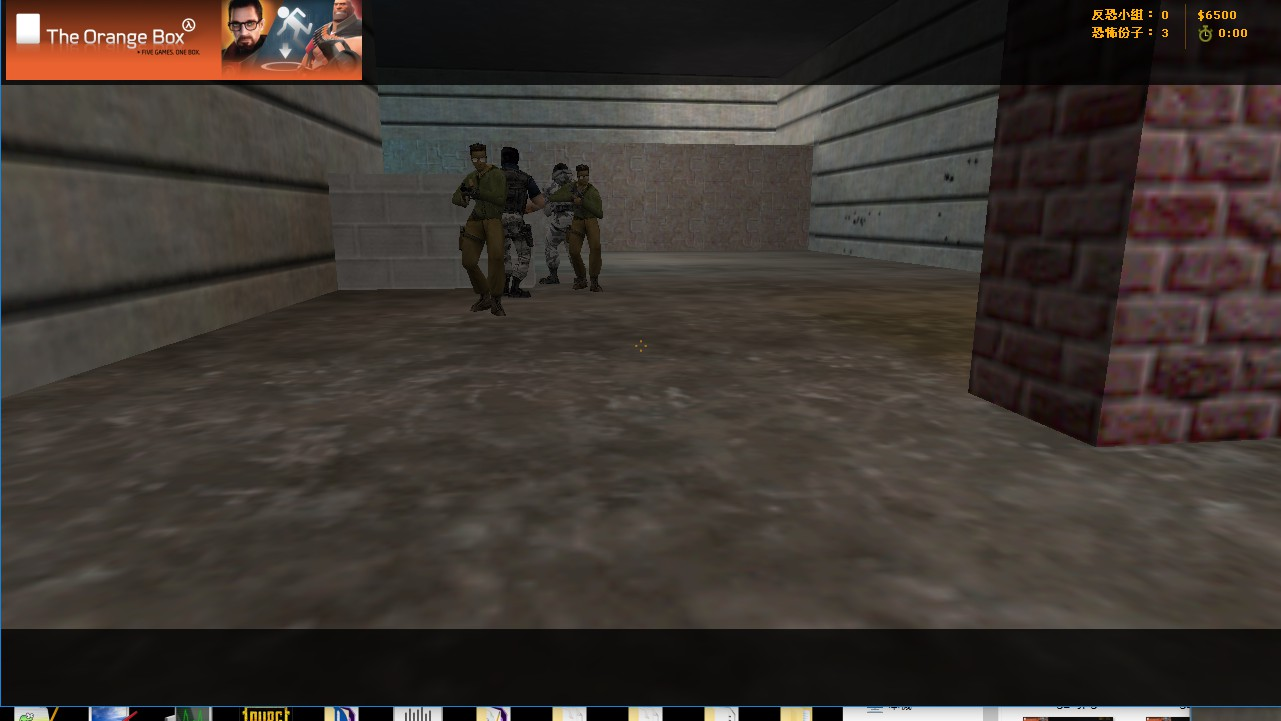person: (442, 139, 507, 323), (561, 160, 612, 301)
